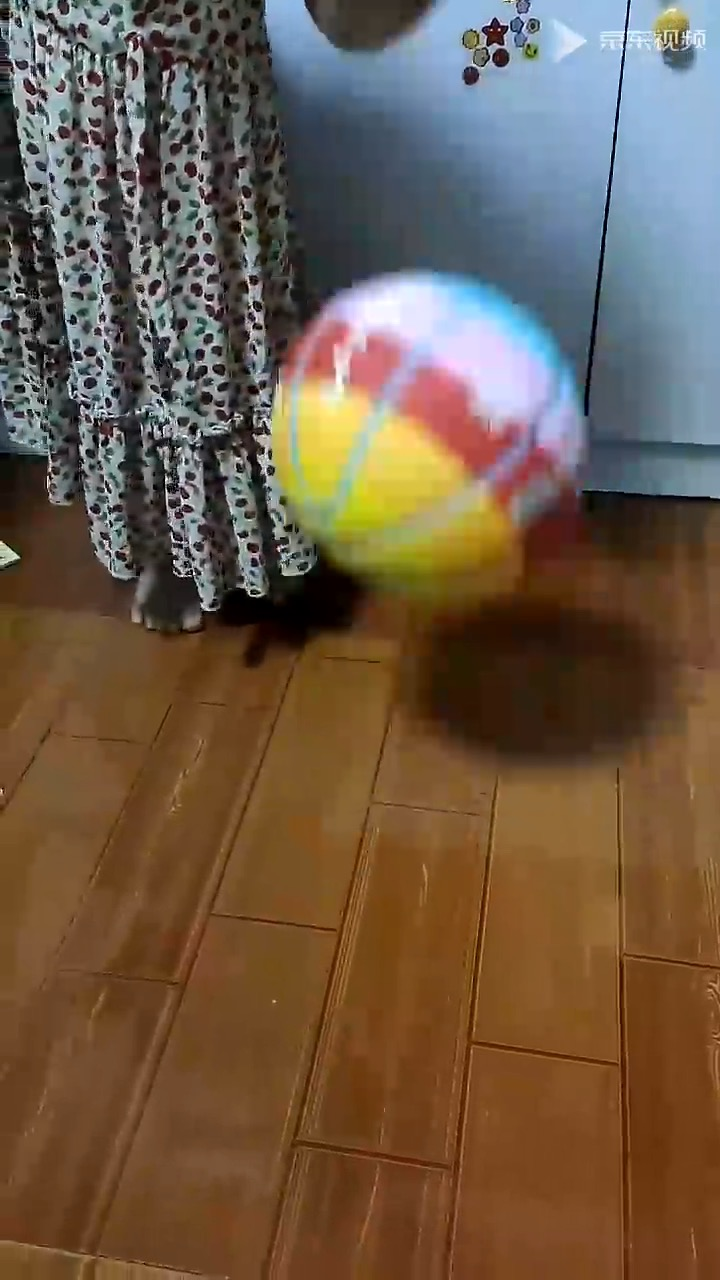ball: (266, 260, 595, 612)
